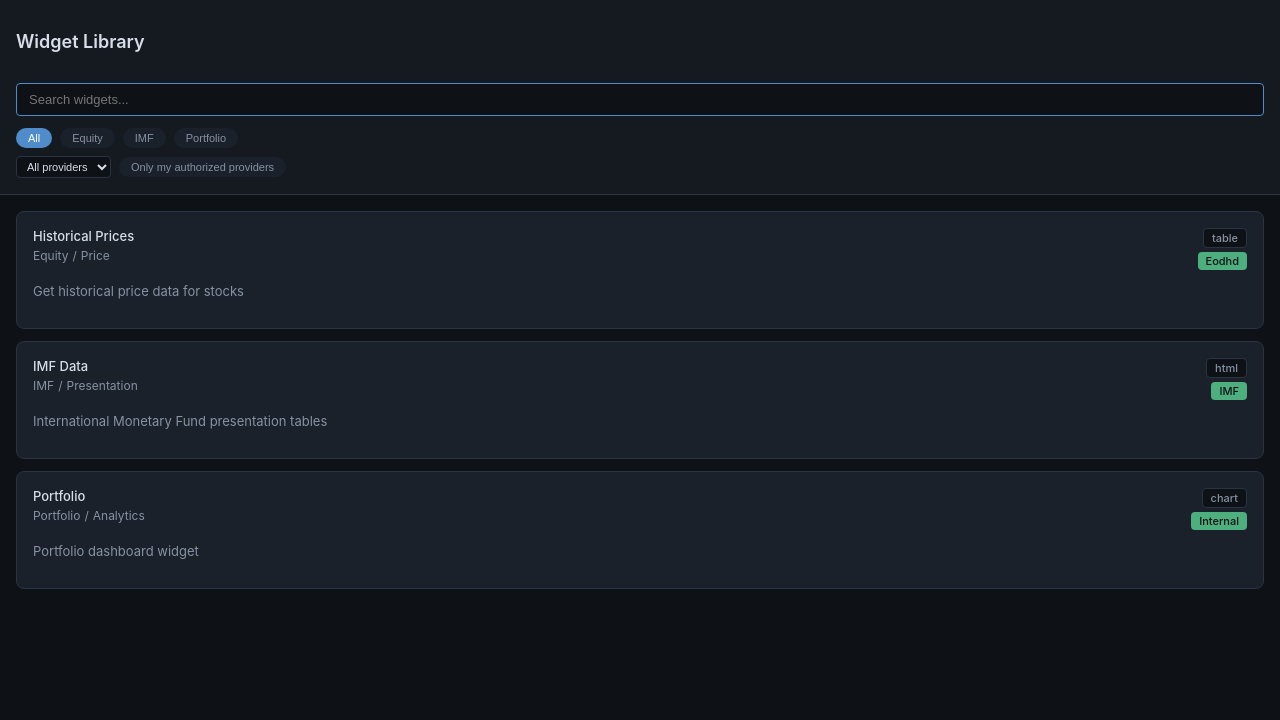
WidgetLibrary › provider filtering › provider filter composes with the category chips
Select "Eodhd" in the dropdown named "Filter by provider" at (64, 167), box x1=16 y1=156 x2=111 y2=178
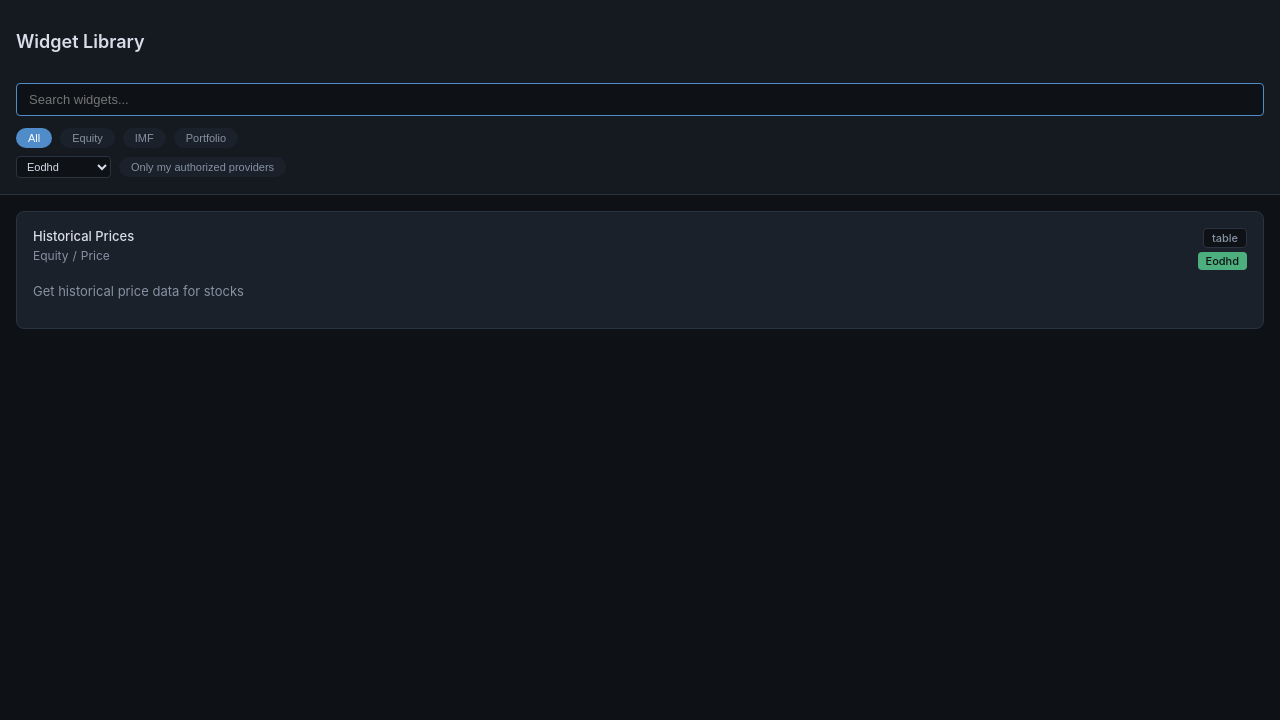
Click the button "IMF" at (144, 138), box x1=123 y1=128 x2=166 y2=148
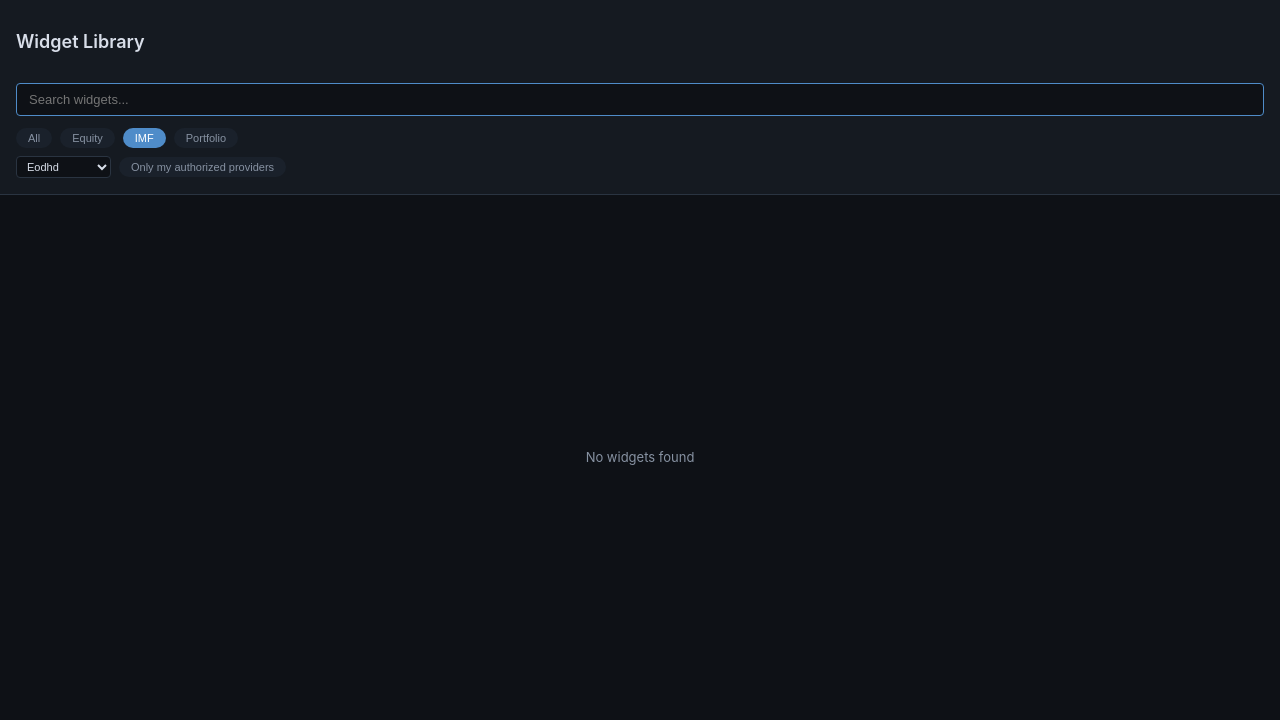
Expected: the button "IMF Data" is not shown
Result: the button "Historical Prices" is gone
